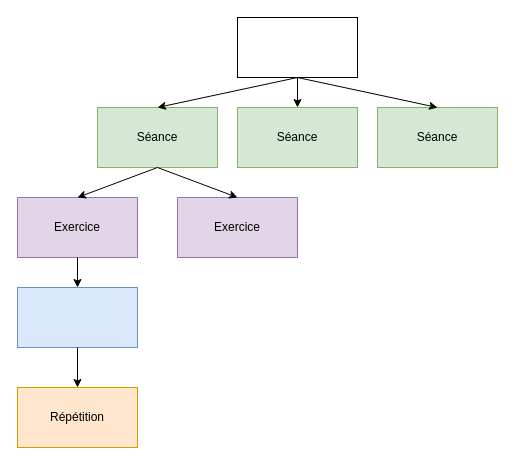
Some shapes in this 515 by 465 pixel diagram are drawn without their labels. Here are the shapes that lost their labels. From the top down, the centre of each, then its label:
At pixel 297 47: "Workout".
At pixel 77 317: "Série".
